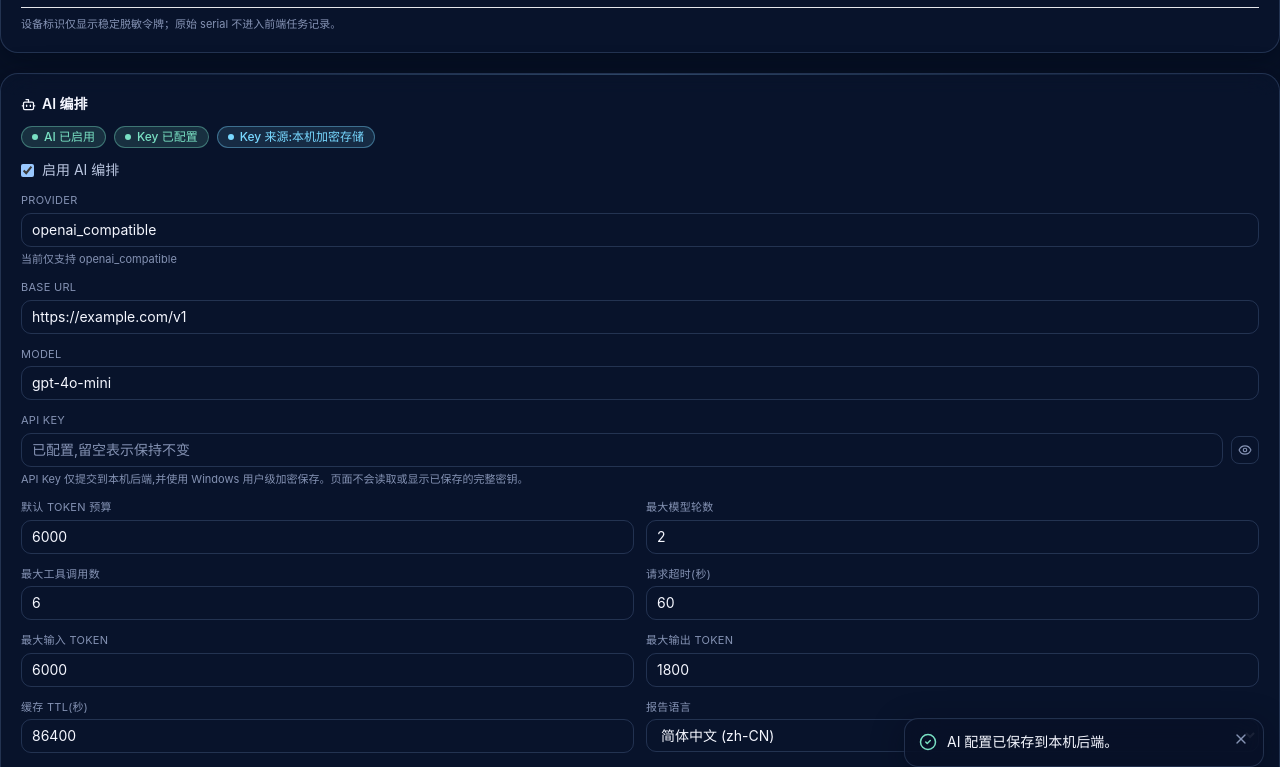
Test: M6B — AI 配置表单 › 重置未保存修改恢复服务端值并清空 Key
(page scrolled)
Expected: the element with test id "ai-settings-summary" is shown, [21, 126, 375, 148]
Replace the text in the field labelled "Model" with "dirty" at (640, 383), box [21, 366, 1259, 400]
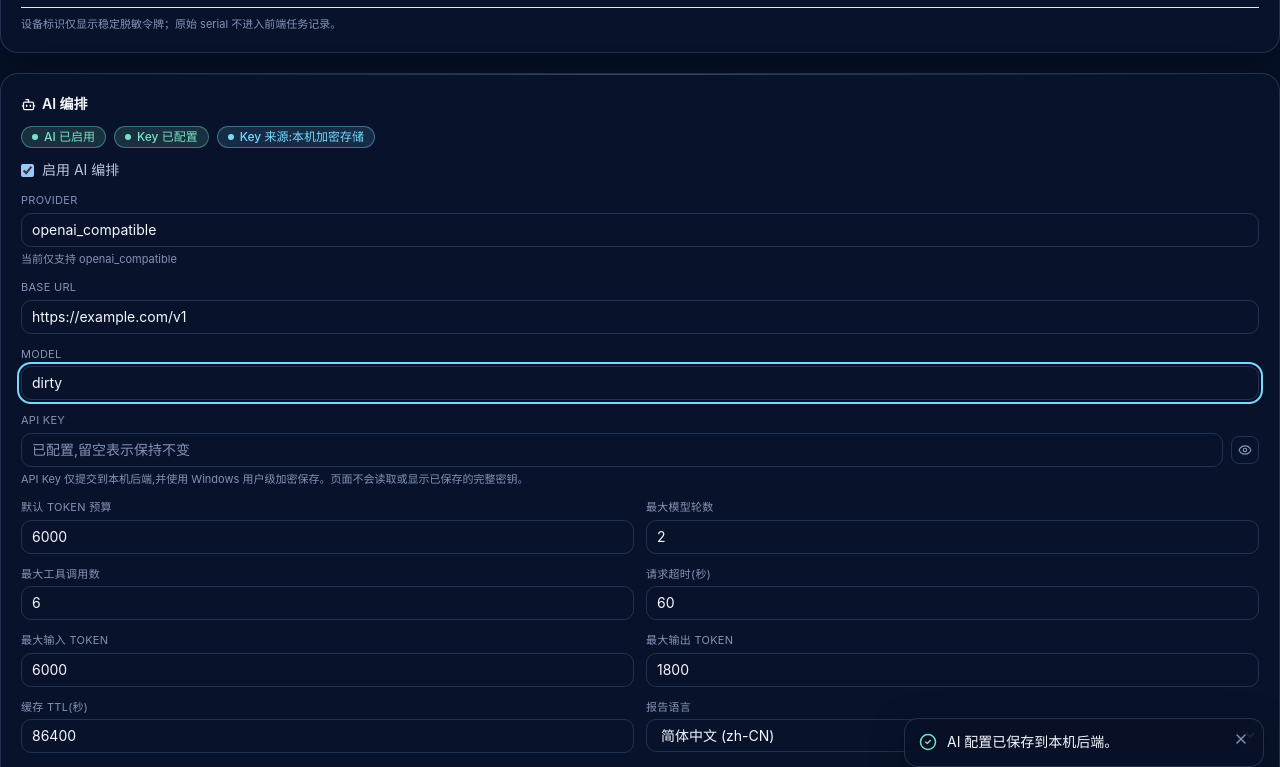
Type "sk-frontend-never-persist-0001" into the password field labelled "API Key" at (622, 450), box [21, 432, 1223, 466]
(page scrolled)
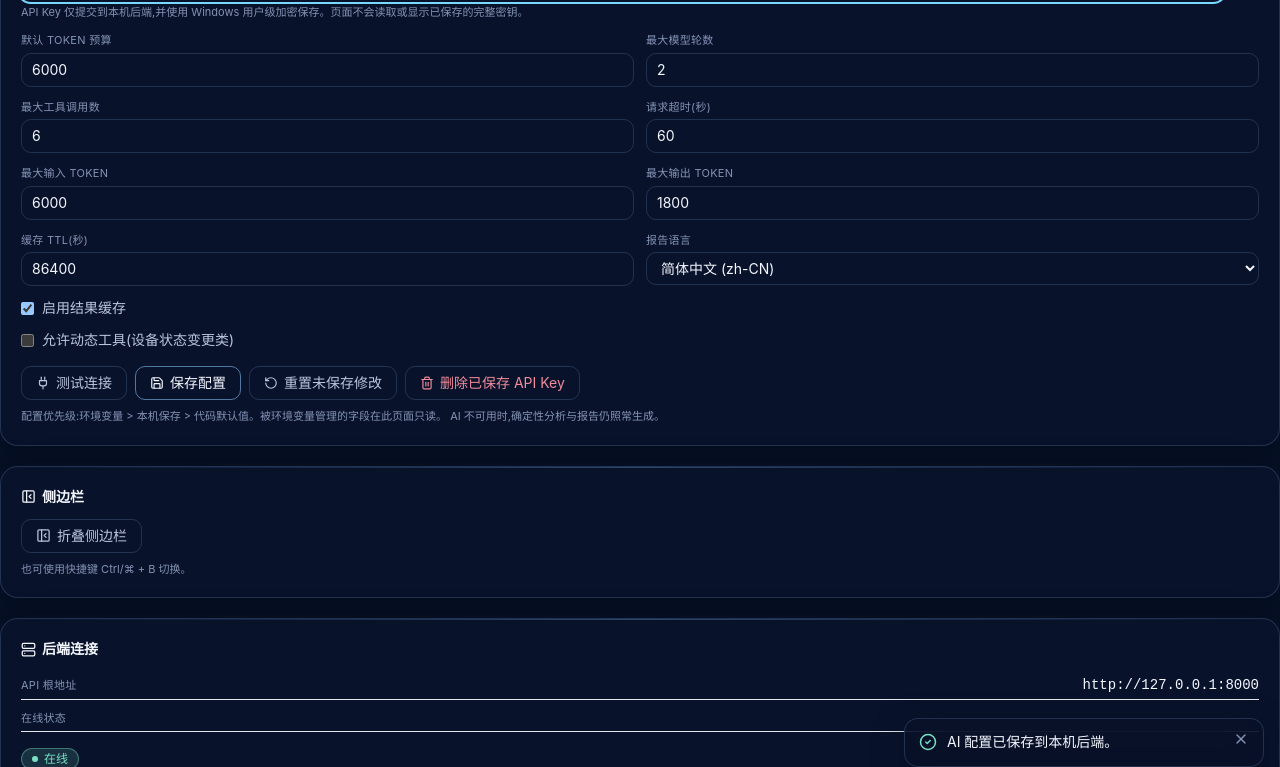
Click the button with test id "ai-settings-reset" at (323, 383), box [249, 366, 397, 400]
(page scrolled)
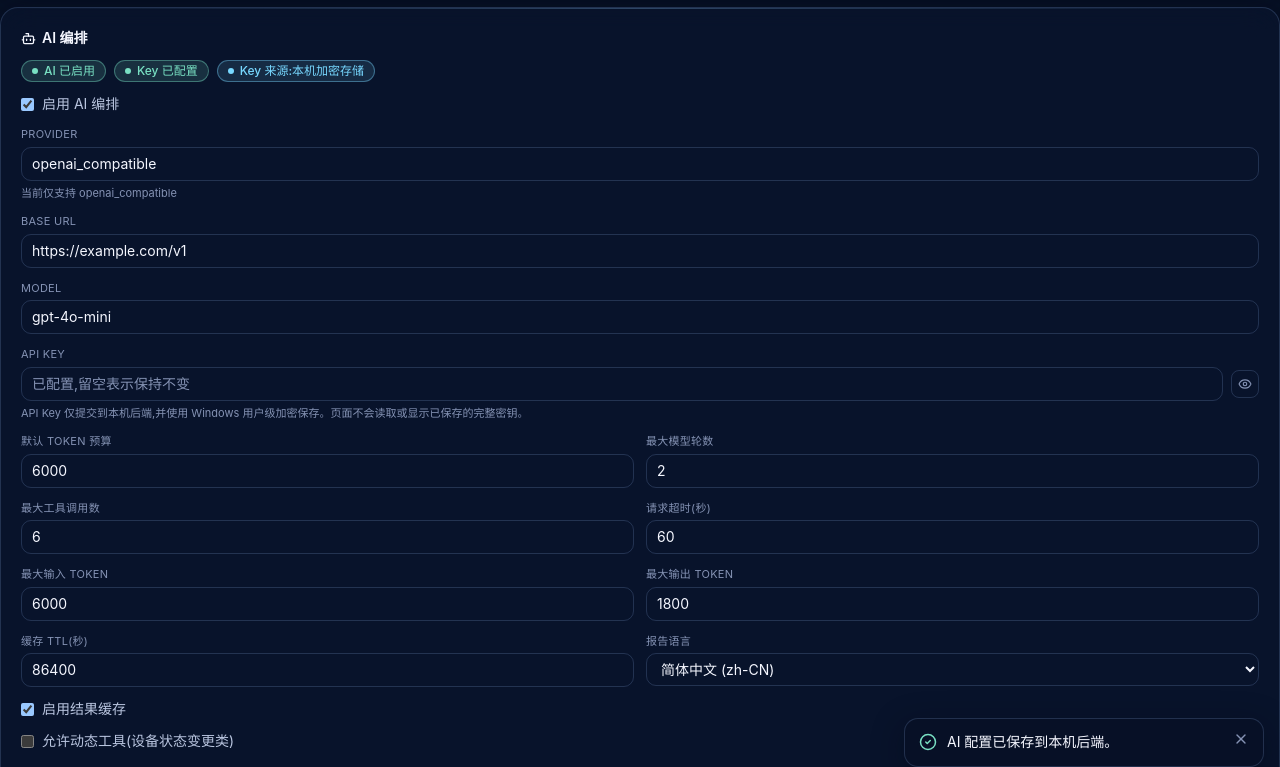
Expected: the field labelled "Model" holds "gpt-4o-mini", [21, 300, 1259, 334]
Expected: the password field labelled "API Key" is empty, [21, 366, 1223, 400]
